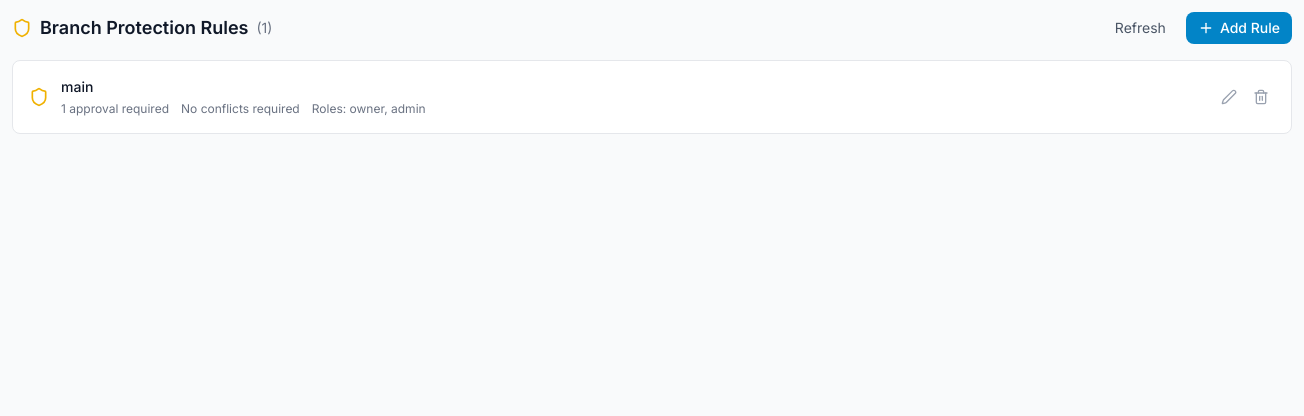
BranchProtectionSettings › opens edit form when Edit button is clicked
Click the button titled "Edit" at (1229, 97), box 1215,83 -> 1243,111
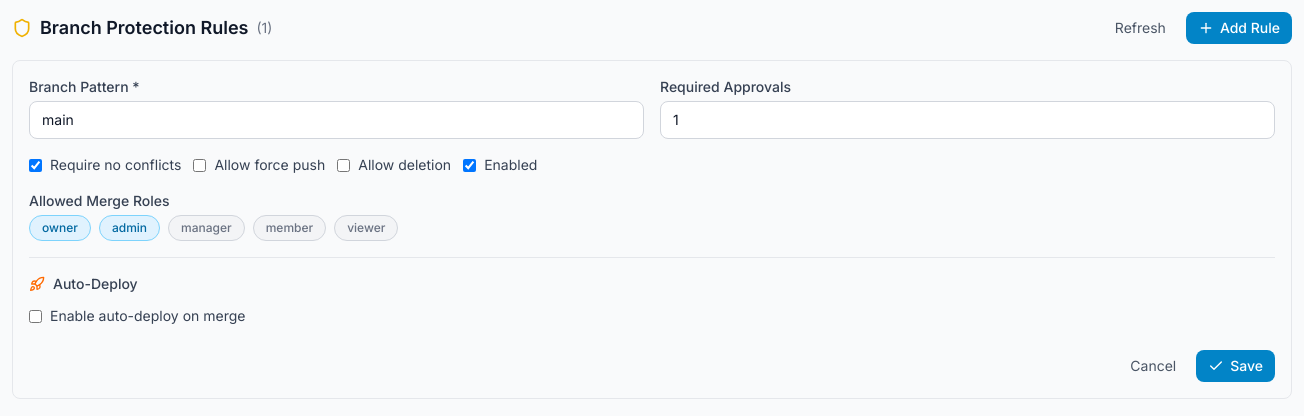
expect the button "Save" is shown: met, box 1196,350 -> 1275,382
